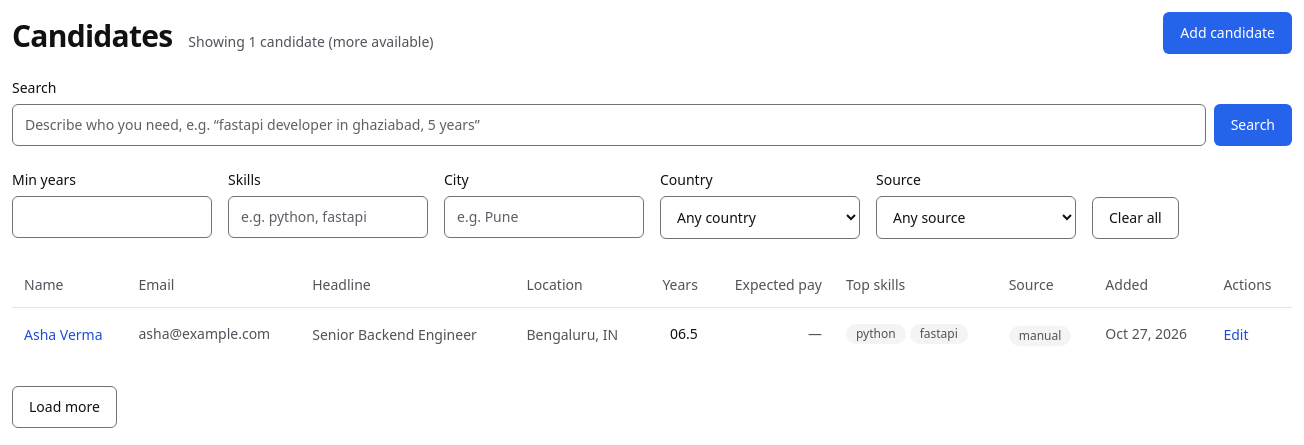
CandidateSearchPage › loads the next page with the cursor
Click the button "Load more" at [64, 407], box left=12, top=386, right=117, bottom=428
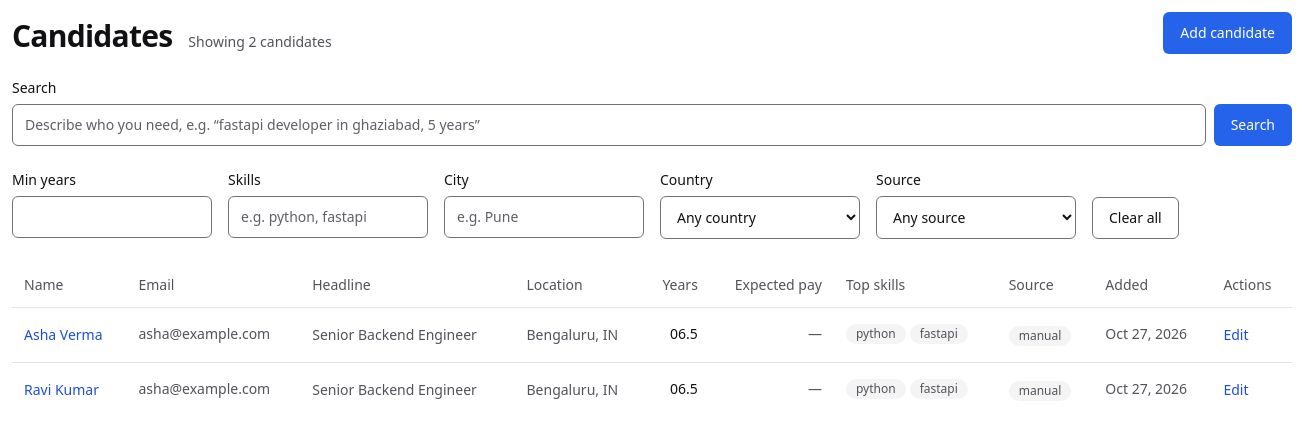
Expected: the link "Asha Verma" is shown, left=24, top=325, right=102, bottom=344
Expected: the link "Ravi Kumar" is shown, left=24, top=380, right=99, bottom=399
Expected: the button "Load more" is gone
